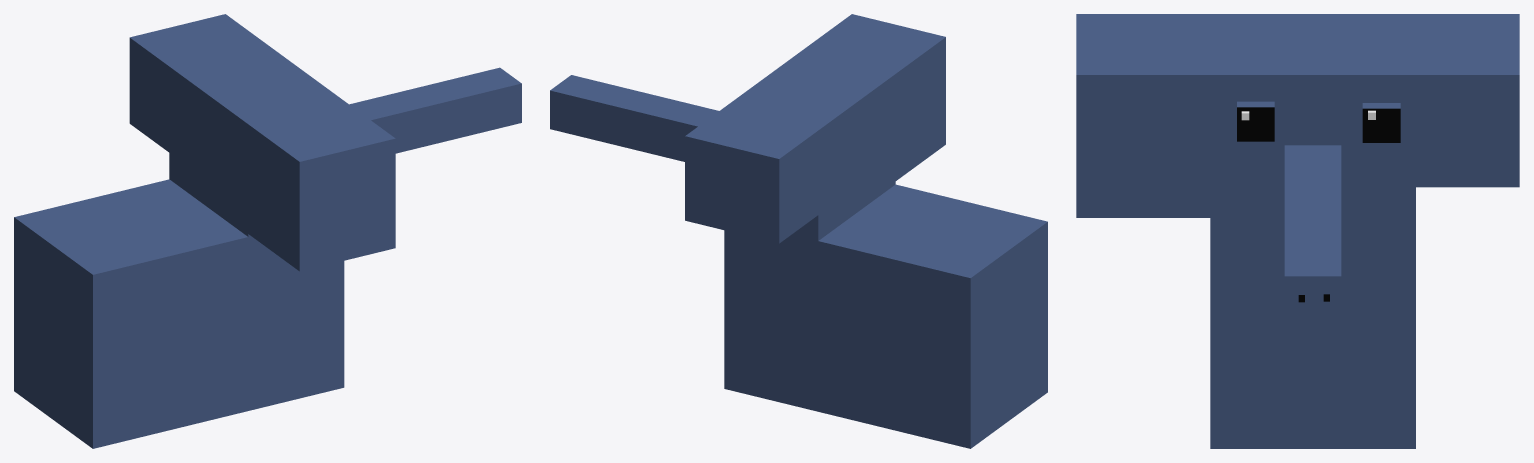
File: elephant.dae
The picture shows the model from 3 angles, left to right: view 1: azimuth 30°, elevation 25°; view 2: azimuth 150°, elevation 25°; view 3: azimuth 270°, elevation 25°; orthographic projection. The views are drawn at different scales.
Visible parts, largest first — view 1: SketchUp (×2); view 2: SketchUp (×2); view 3: SketchUp (×4).
Part boxes in pixels (bbox=[...]): SketchUp (×2): bbox=[14, 14, 521, 448]; SketchUp (×2): bbox=[550, 14, 1047, 448]; SketchUp (×4): bbox=[1076, 14, 1519, 448].
Size of the model in its own units: 555 by 358 by 333.
